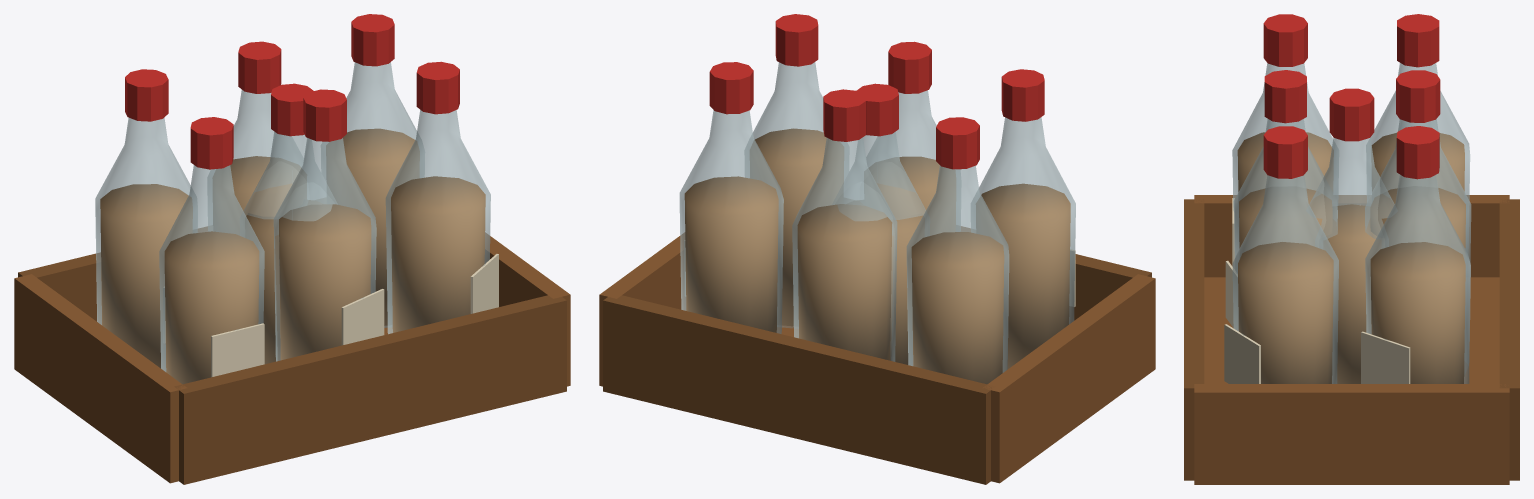
File: Proc_SesameOil.fbx
3 renders of one model, left to right at view 1: azimuth 30°, elevation 25°; view 2: azimuth 150°, elevation 25°; view 3: azimuth 270°, elevation 25°, orthographic.
Parts seen in each view (by area): view 1: Proc_SesameOil__Stack, Proc_SesameOil; view 2: Proc_SesameOil__Stack, Proc_SesameOil; view 3: Proc_SesameOil__Stack, Proc_SesameOil.
Boxes of the visible parts, x1,y1,x2,y2 form: Proc_SesameOil__Stack: (14, 14, 570, 484); Proc_SesameOil: (240, 83, 336, 364); Proc_SesameOil__Stack: (599, 14, 1155, 484); Proc_SesameOil: (832, 83, 929, 365); Proc_SesameOil__Stack: (1184, 14, 1519, 484); Proc_SesameOil: (1309, 88, 1394, 383).
Bounding box in the file's own units: 0.184 × 0.133 × 0.132.
